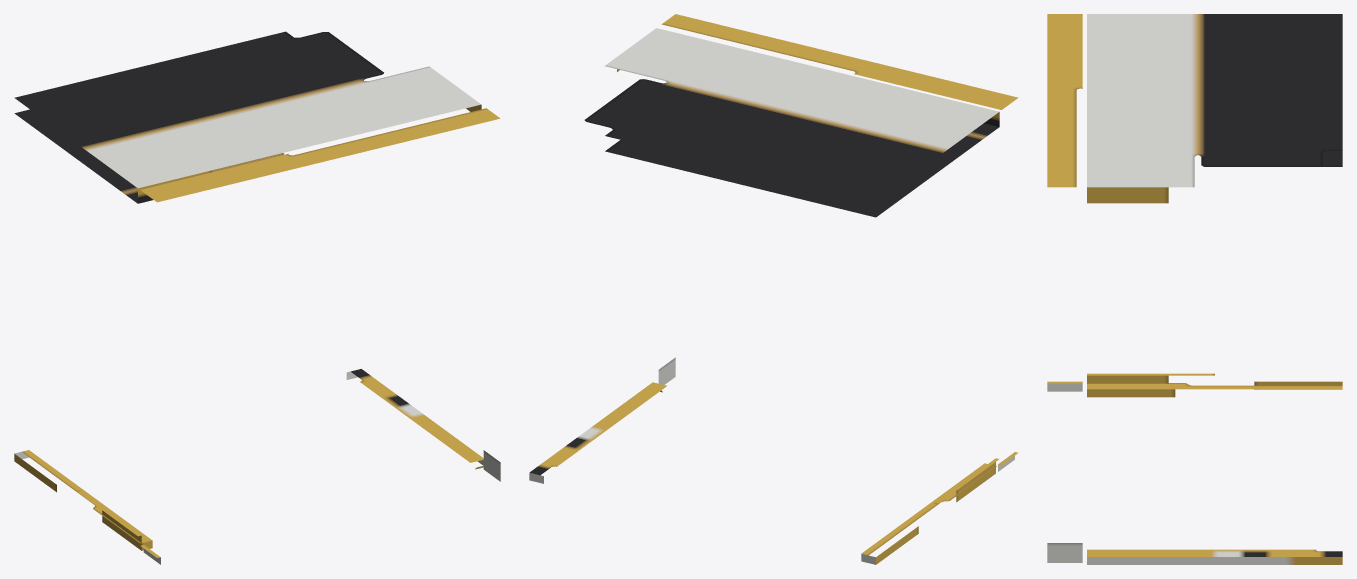
The model's file is section-10.obj.
The picture shows the model from 3 angles, left to right: view 1: azimuth 30°, elevation 25°; view 2: azimuth 150°, elevation 25°; view 3: azimuth 270°, elevation 25°; orthographic projection. The views are drawn at different scales.
Size of the model in its own units: 0.94 by 0.94 by 0.67.
